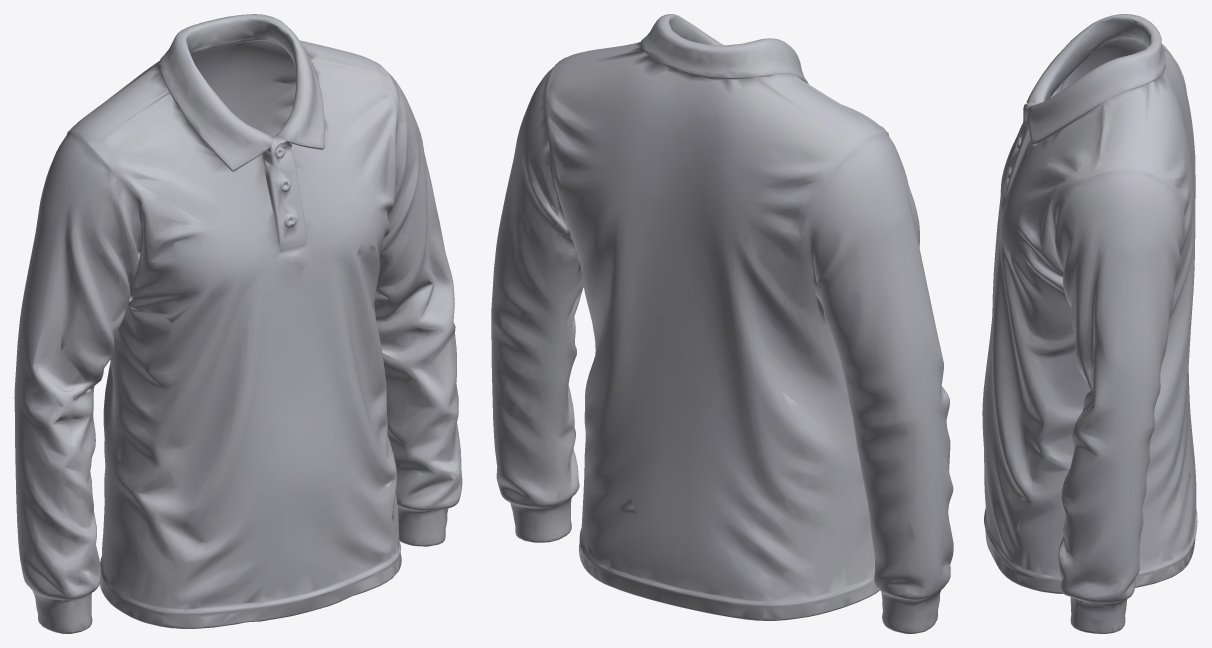
File: polo-long.glb
The picture shows the model from 3 angles, left to right: view 1: azimuth 30°, elevation 25°; view 2: azimuth 150°, elevation 25°; view 3: azimuth 270°, elevation 25°; orthographic projection. The views are drawn at different scales.
Parts seen in each view (by area): view 1: material; view 2: material; view 3: material.
Boxes of the visible parts, x1,y1,x2,y2 form: material: [14, 14, 462, 633]; material: [491, 14, 953, 633]; material: [982, 14, 1197, 633].
Size of the model in its own units: 0.7919 by 0.95 by 0.3646.
Materials: 1 (1 with a texture image).
